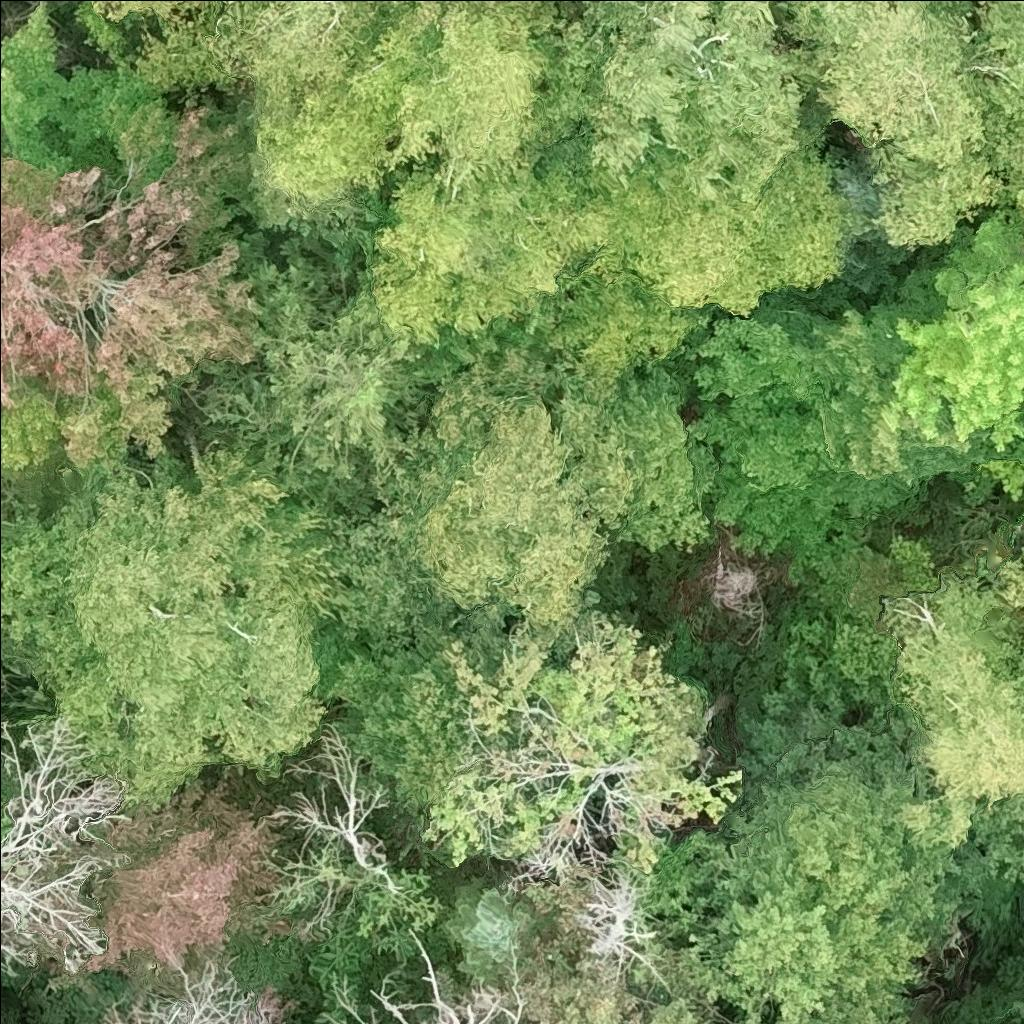crown: (0, 441, 412, 809), (347, 336, 718, 666), (0, 88, 263, 514), (422, 611, 748, 873), (656, 756, 969, 1023), (552, 147, 854, 390), (201, 259, 438, 526), (357, 144, 616, 381), (533, 0, 826, 207), (690, 307, 924, 564), (772, 0, 1003, 249), (344, 0, 568, 193), (877, 572, 1023, 853), (866, 207, 1023, 460), (232, 0, 395, 240), (0, 707, 136, 977), (508, 870, 722, 1023), (317, 623, 462, 823), (0, 0, 167, 169), (263, 718, 398, 894), (301, 865, 444, 1023), (368, 925, 530, 1023), (569, 845, 673, 996), (438, 873, 550, 984), (502, 789, 619, 893), (98, 953, 268, 1023), (971, 0, 1023, 184), (980, 554, 1023, 634), (92, 0, 201, 26), (1001, 180, 1023, 257), (334, 995, 377, 1023), (220, 0, 263, 22), (864, 1008, 920, 1023), (0, 478, 3, 506), (1022, 441, 1023, 456), (1016, 1021, 1023, 1023), (0, 4, 1, 17), (1023, 532, 1023, 533)
